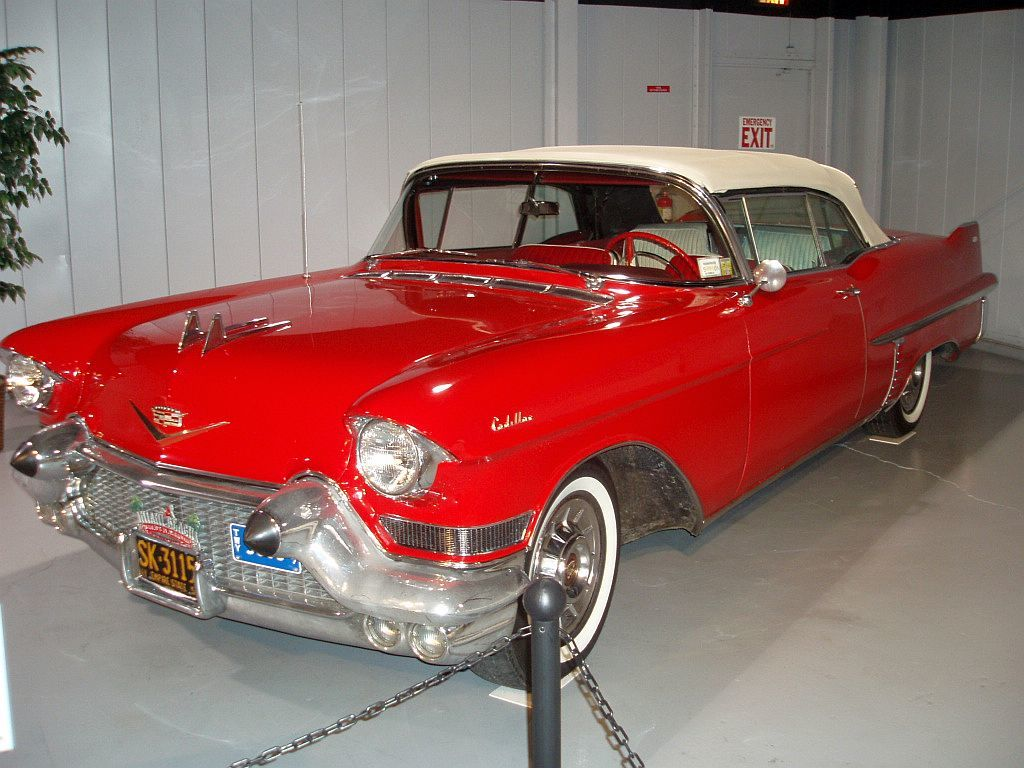cars: (0, 148, 968, 685)
